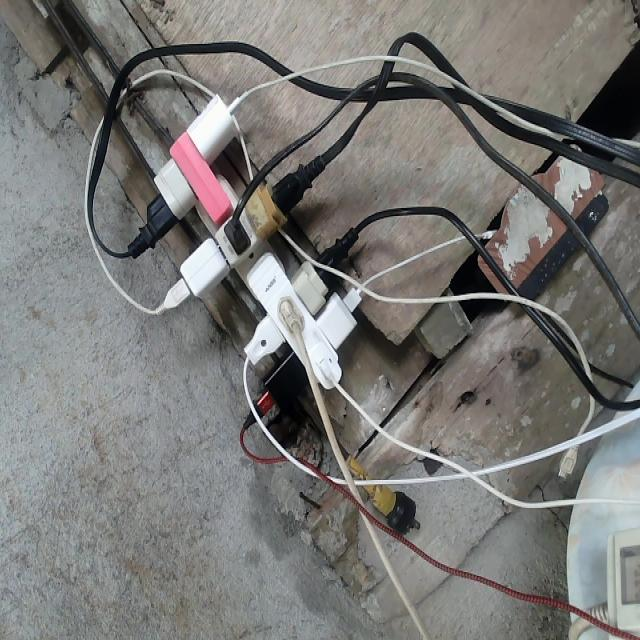-: (124, 94, 362, 434)
